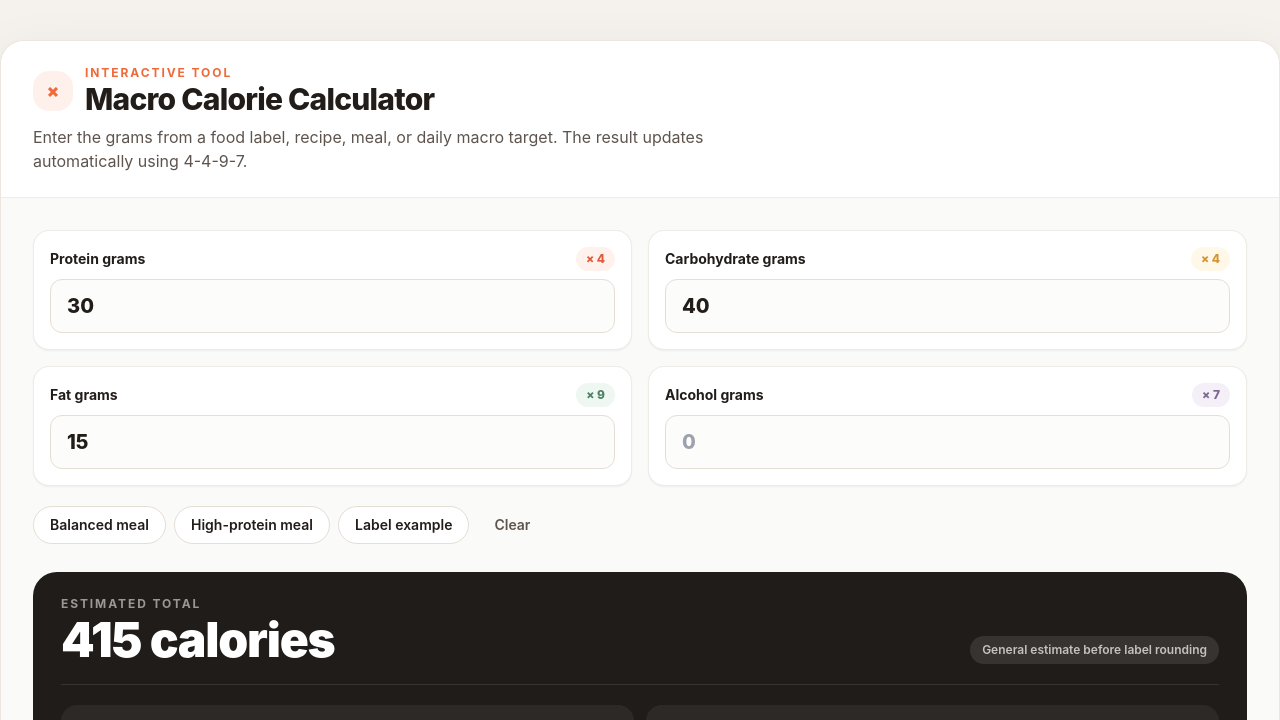
it: CaloriesPerGramCalculator › loads the 199-calorie label example from a preset
Click the button "Label example". click: (404, 525)
box: [338,506,469,544]
(page scrolled)
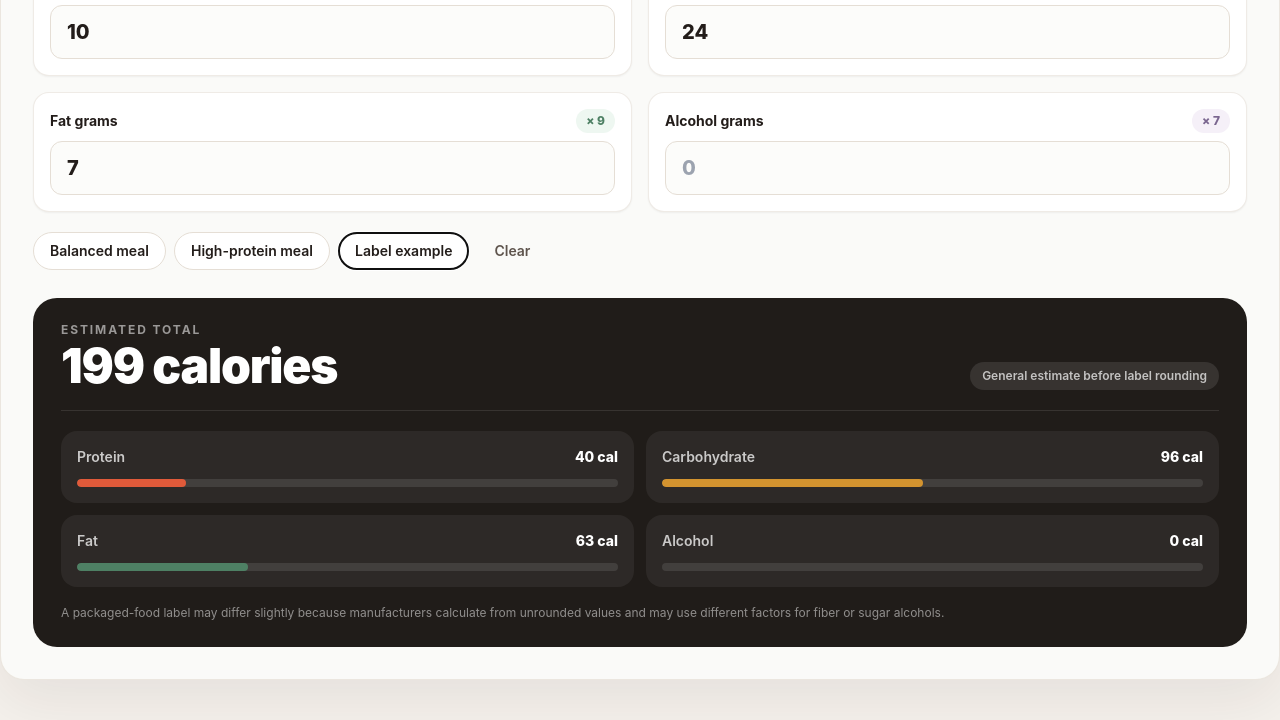
Now the message reads "199 calories", box [61,342,337,390]
Now the text "40 cal" is shown, box [575,447,618,467]
Now the text "96 cal" is shown, box [1161,447,1203,467]
